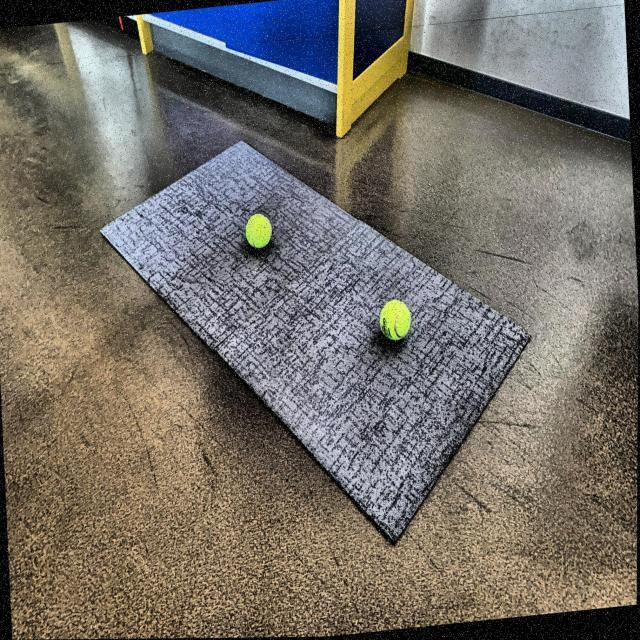tennis-ball: (377, 296, 413, 349), (243, 208, 276, 258)
